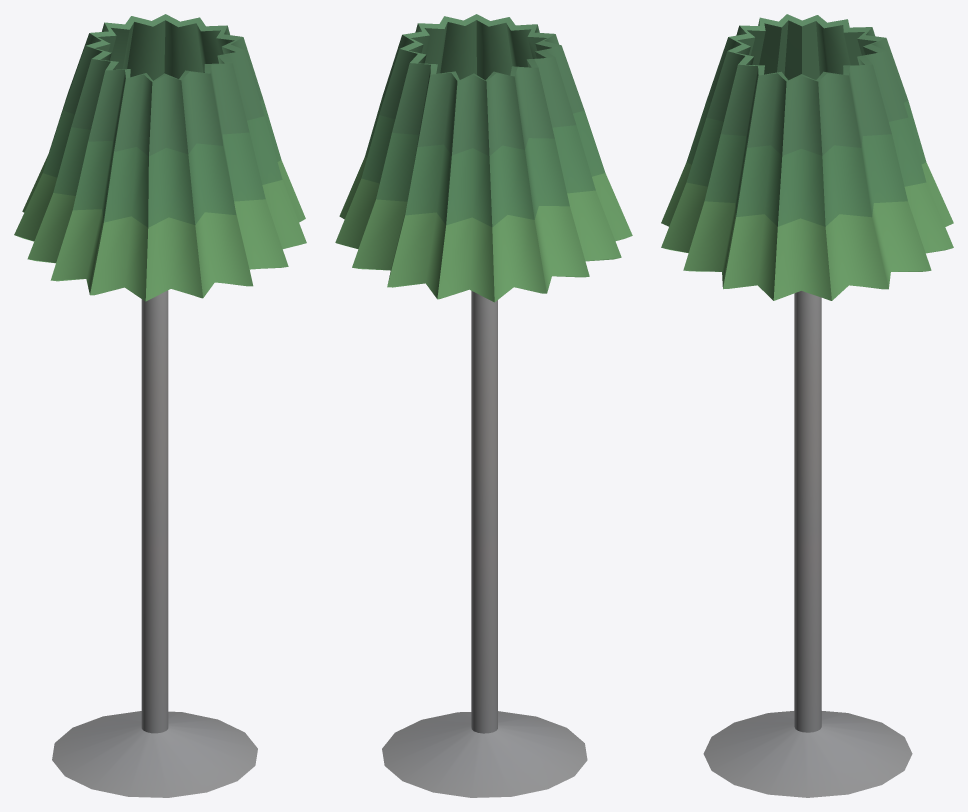
File: Lamp.fbx
The picture shows the model from 3 angles, left to right: view 1: azimuth 30°, elevation 25°; view 2: azimuth 150°, elevation 25°; view 3: azimuth 270°, elevation 25°; orthographic projection.
Parts seen in each view (by area): view 1: Lamp; view 2: Lamp; view 3: Lamp.
Boxes of the visible parts, x1=… form: Lamp: x1=14, y1=14, x2=306, y2=797; Lamp: x1=335, y1=14, x2=632, y2=797; Lamp: x1=661, y1=14, x2=953, y2=797.
Bounding box in the file's own units: 5.42 × 14.35 × 5.36.
Materials: 1 (1 with a texture image).
